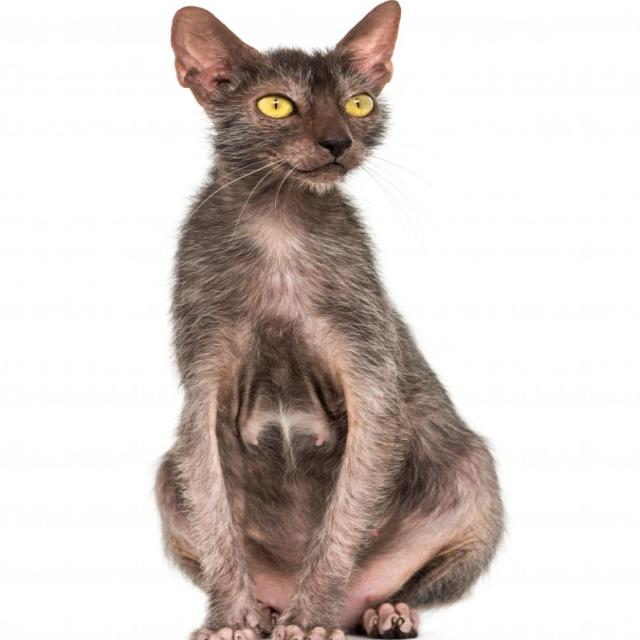Lykoi: (146, 0, 516, 640)
